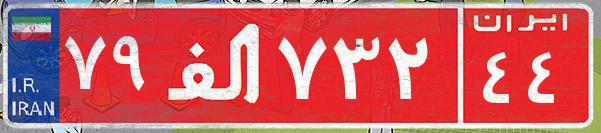2: (385, 28, 445, 110)
3: (330, 28, 385, 110)
4: (475, 38, 525, 113), (525, 38, 570, 115)
7: (273, 28, 330, 110), (57, 26, 110, 107)
9: (110, 28, 158, 105)
الف: (158, 15, 273, 115)
